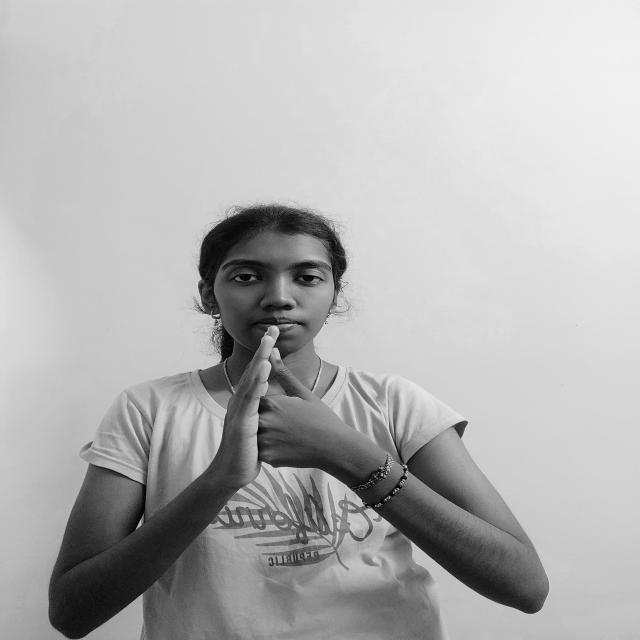Well Done: (194, 320, 380, 485)
